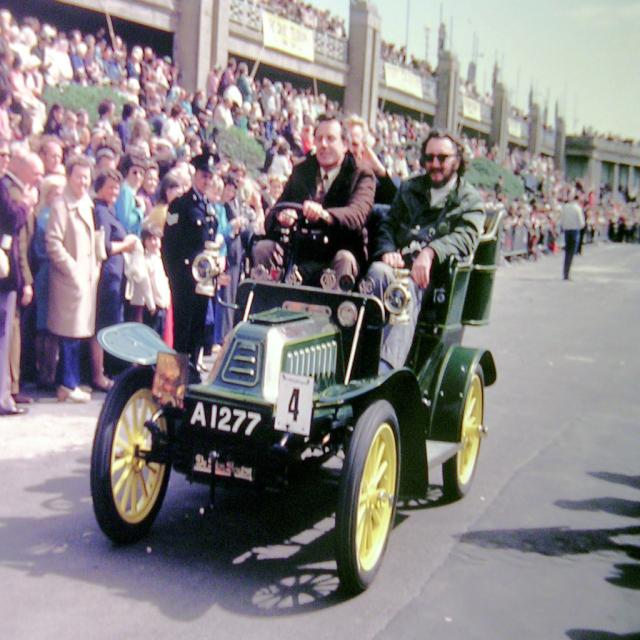car: (89, 203, 505, 591)
